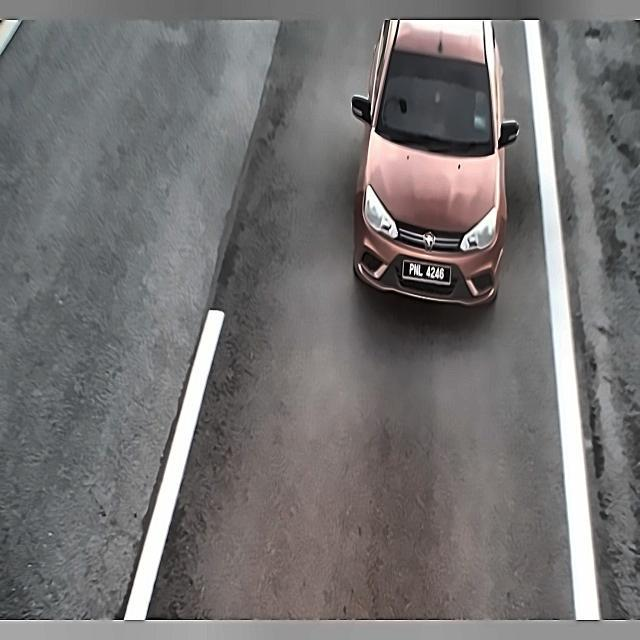car: (400, 257, 459, 290)
